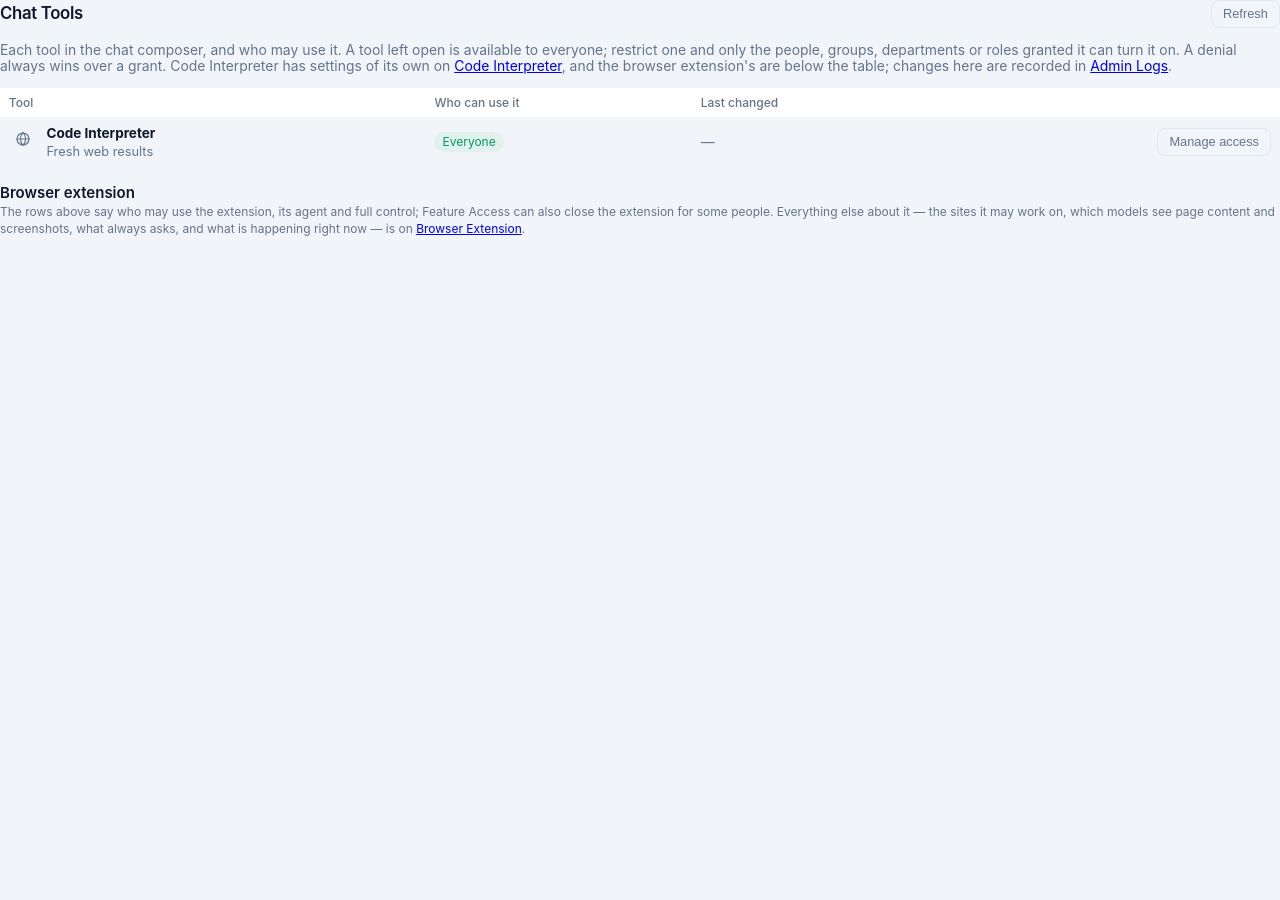
it: the Chat Tools page › opens the access editor for the tool whose button was pressed
The image size is (1280, 900).
Click the button "Manage access": point(1214, 142) [1157, 128, 1271, 156]
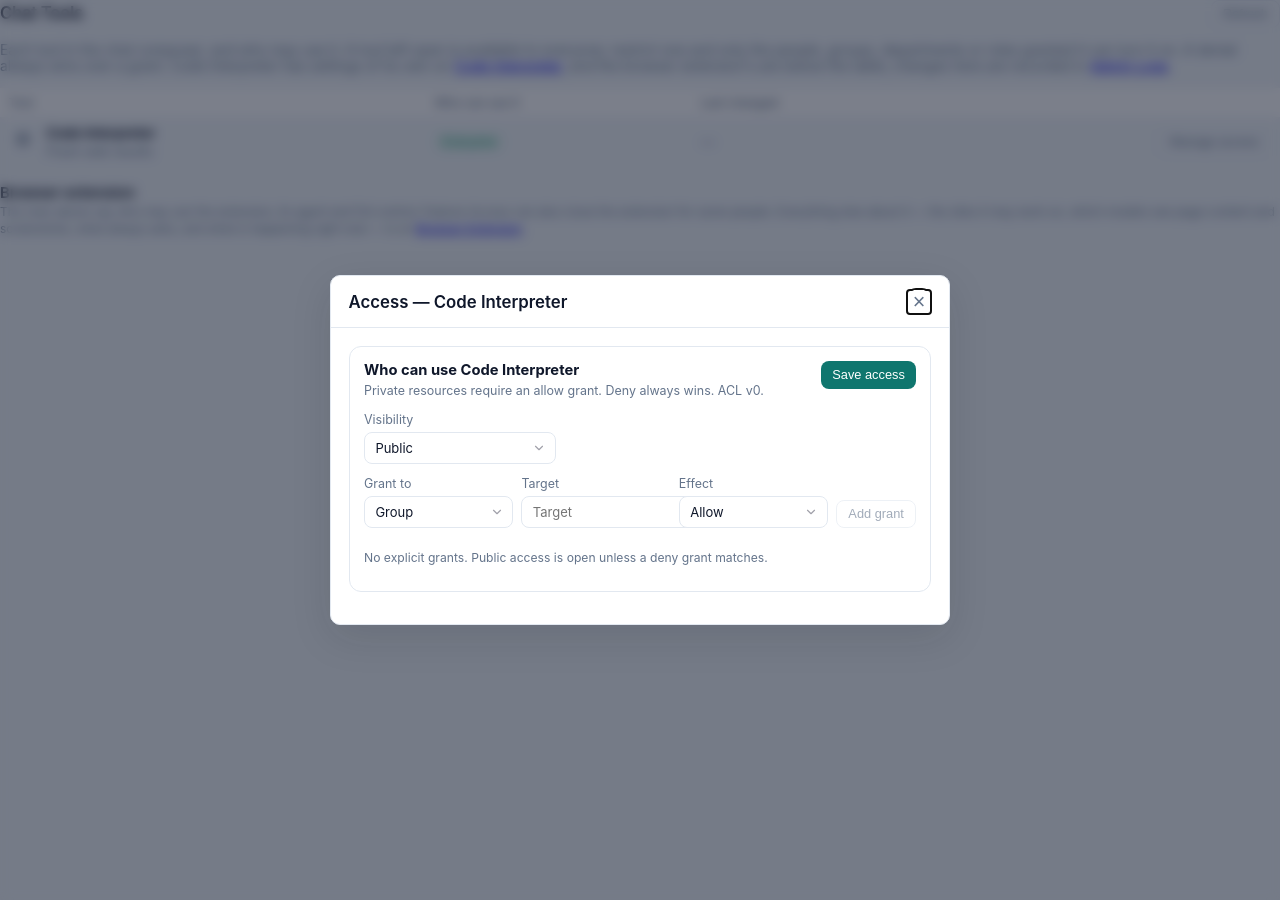
Expected: the text "Who can use Code Interpreter" is shown, [364, 361, 579, 379]
